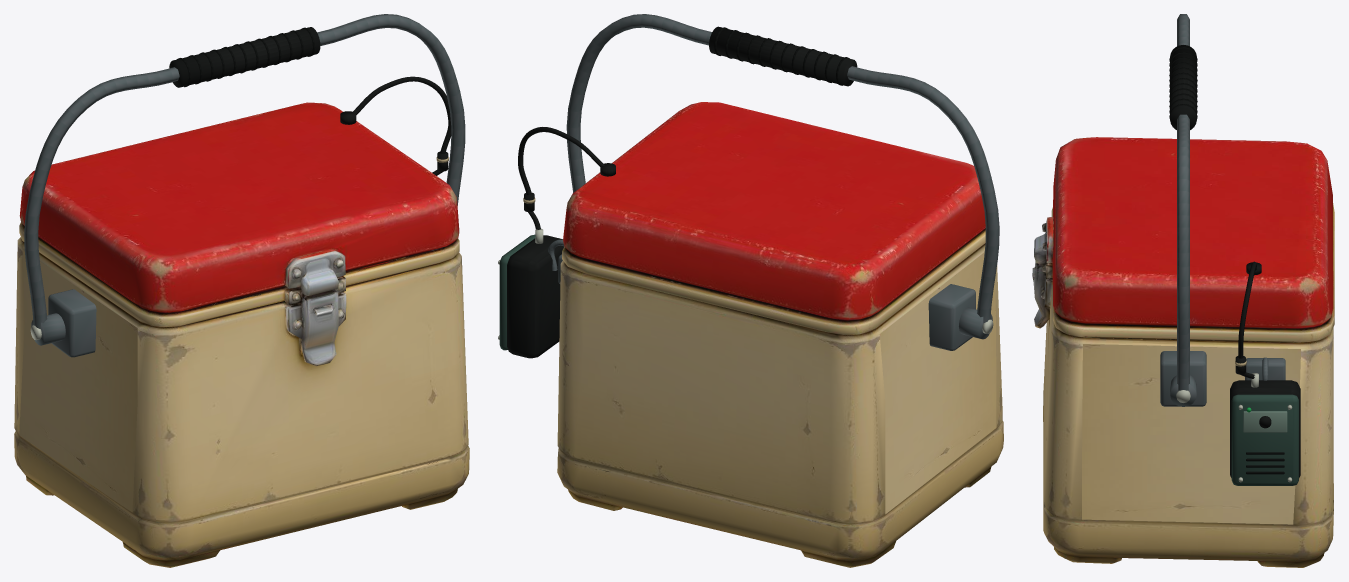
Rendered from oxy_box.glb.
The picture shows the model from 3 angles, left to right: view 1: azimuth 30°, elevation 25°; view 2: azimuth 150°, elevation 25°; view 3: azimuth 270°, elevation 25°; orthographic projection. The views are drawn at different scales.
Visible parts, largest first — view 1: Bucket_Body_Original, Carry_Handle, Mounts, Air_System; view 2: Bucket_Body_Original, Carry_Handle, Pump, Mounts, Air_System; view 3: Bucket_Body_Original, Pump, Carry_Handle, Mounts, Air_System.
Boxes of the visible parts, left/top/right/bottom form: Bucket_Body_Original: left=14, top=102, right=469, bottom=567; Carry_Handle: left=24, top=14, right=465, bottom=329; Mounts: left=30, top=289, right=96, bottom=357; Air_System: left=340, top=76, right=451, bottom=175; Bucket_Body_Original: left=557, top=102, right=1003, bottom=567; Carry_Handle: left=566, top=14, right=999, bottom=323; Pump: left=498, top=228, right=564, bottom=358; Mounts: left=928, top=284, right=993, bottom=350; Air_System: left=518, top=127, right=615, bottom=229; Bucket_Body_Original: left=1032, top=137, right=1334, bottom=567; Pump: left=1230, top=357, right=1300, bottom=485; Carry_Handle: left=1169, top=14, right=1197, bottom=390; Mounts: left=1160, top=351, right=1206, bottom=406; Air_System: left=1235, top=261, right=1261, bottom=378.
Size of the model in its own units: 0.4874 by 0.4567 by 0.2953.
2 materials, 2 textured.
